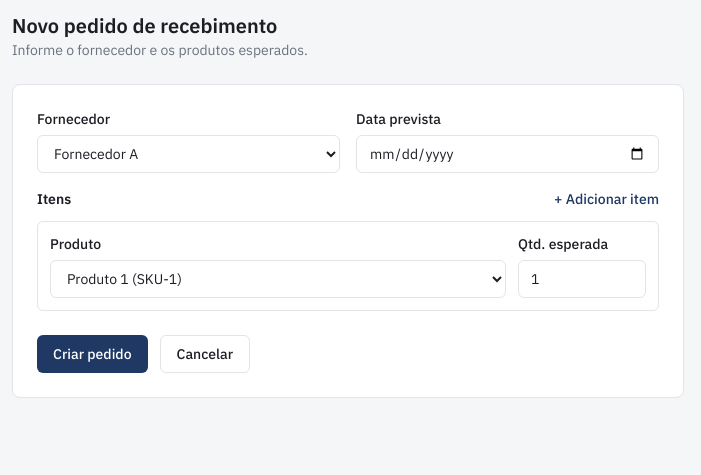
Test case: PedidoRecebimentoFormPage › mostra o erro da API e não navega quando falha ao criar o pedido
This screenshot has width=701, height=475.
Expected: the number of dropdowns labelled "Produto" is 1, x1=50 y1=260 x2=506 y2=298
In the date field labelled "Data prevista": (508,154) x1=356 y1=135 x2=659 y2=173, type "2026-06-01"
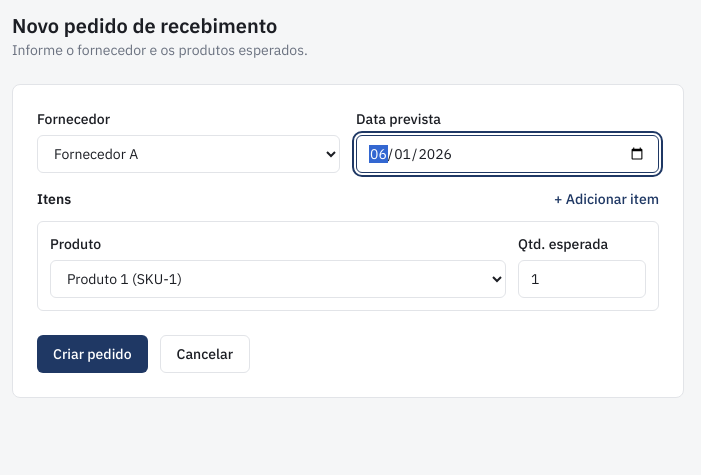
Click the button "Criar pedido": (92,354) x1=37 y1=335 x2=148 y2=373
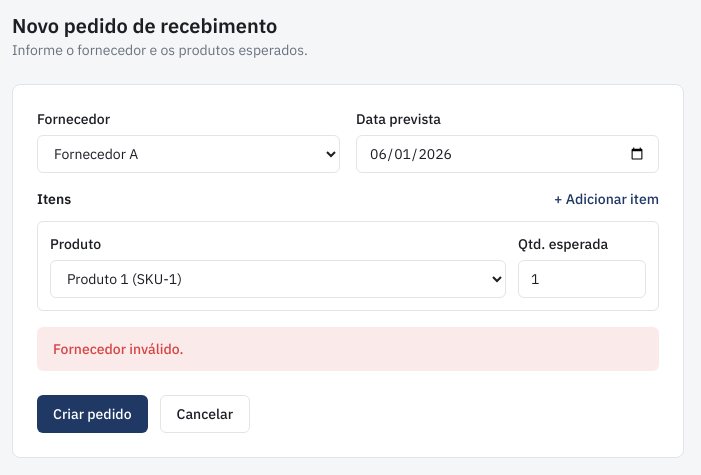
Result: the message reads "Fornecedor inválido." at x1=53 y1=340 x2=183 y2=358
